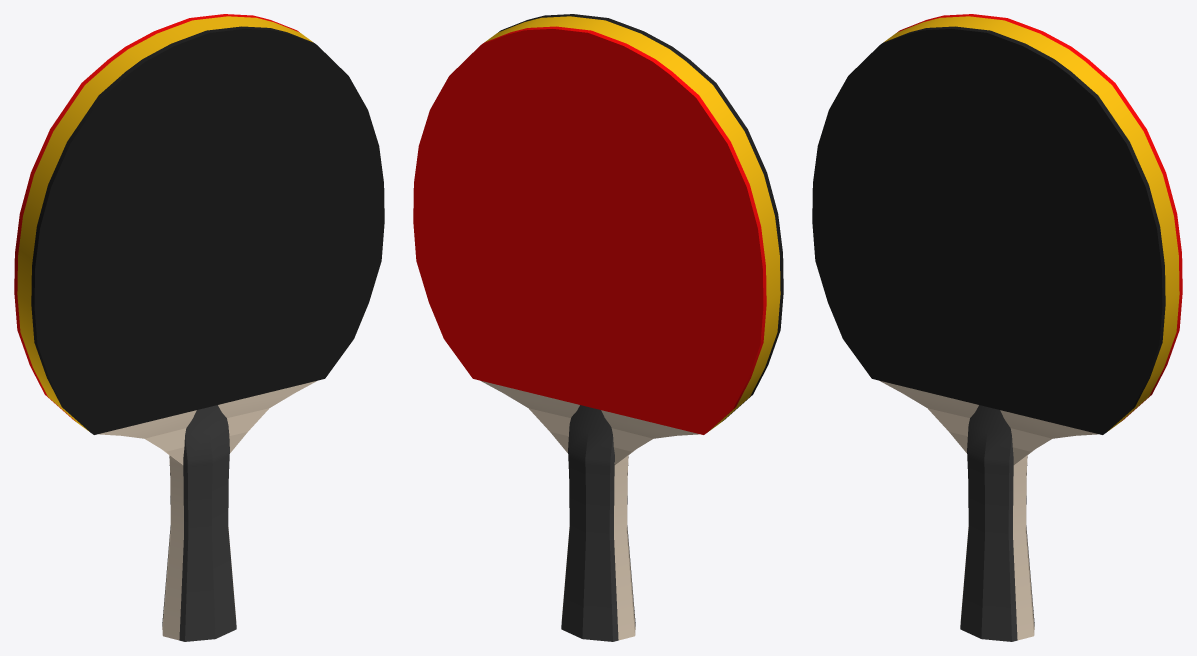
The model's file is Pong Bet.fbx.
3 renders of one model, left to right at view 1: azimuth 30°, elevation 25°; view 2: azimuth 150°, elevation 25°; view 3: azimuth 330°, elevation 25°, orthographic.
Visible parts, largest first — view 1: Pingpong Bet; view 2: Pingpong Bet; view 3: Pingpong Bet.
Boxes of the visible parts, x1,y1,x2,y2 form: Pingpong Bet: (14,14,384,641); Pingpong Bet: (413,14,783,641); Pingpong Bet: (812,14,1182,641).
Size of the model in its own units: 1.05 by 1.73 by 0.1677.
